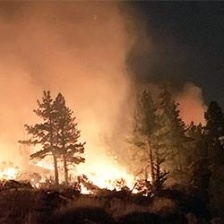fire: (12, 114, 174, 211)
smoke: (1, 6, 142, 107)
